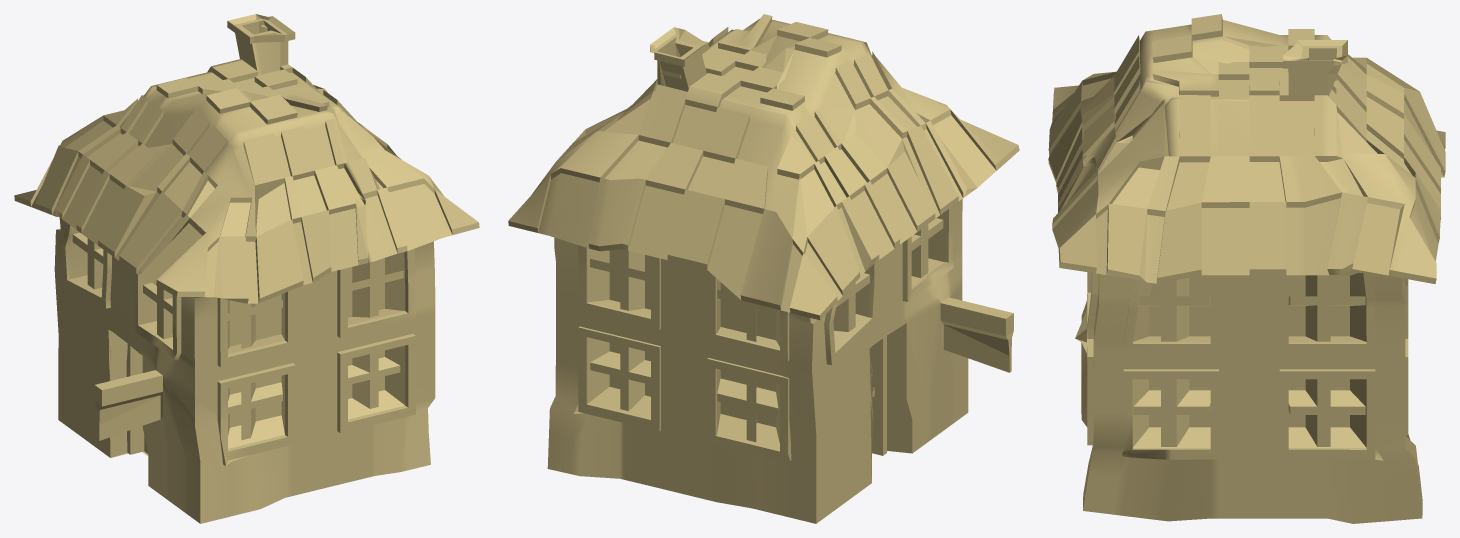
Rendered from Hus2.fbx.
3 views of the same model, side by side, from view 1: azimuth 30°, elevation 25°; view 2: azimuth 150°, elevation 25°; view 3: azimuth 270°, elevation 25° (orthographic). The views are drawn at different scales.
Parts seen in each view (by area): view 1: pCube1; view 2: pCube1; view 3: pCube1.
Boxes of the visible parts, bbox=[...] form: pCube1: bbox=[14, 14, 479, 523]; pCube1: bbox=[508, 14, 1019, 523]; pCube1: bbox=[1048, 14, 1445, 523].
Bounding box in the file's own units: 679 × 736 × 610.
